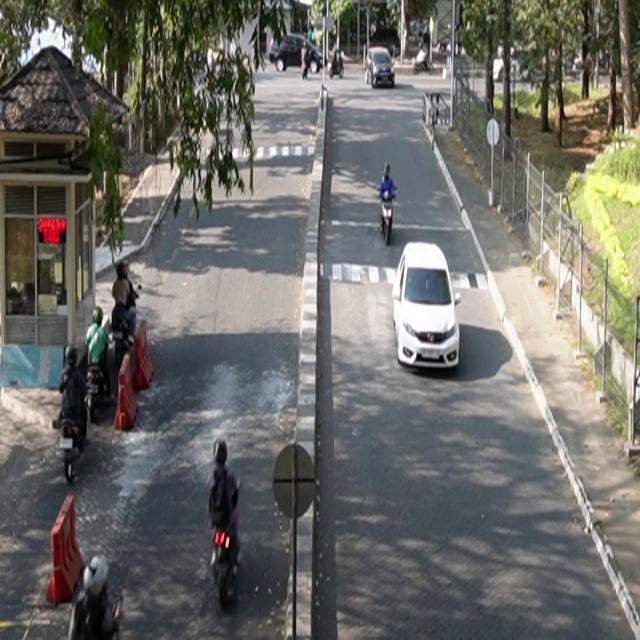car: (393, 242, 462, 370), (366, 47, 396, 89)
